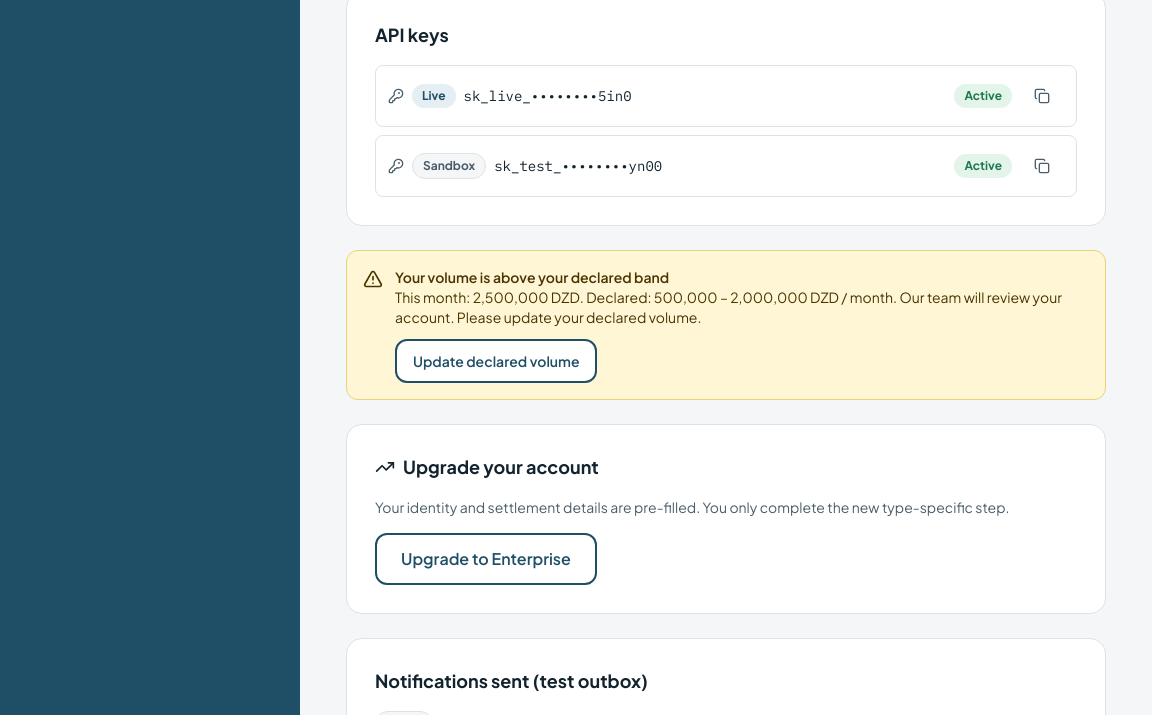
Scenario: volume above declared band › an Enterprise-level band for a Company shows an inline error pointing to the upgrade
(page scrolled)
Click the button "Update declared volume": (496, 360) [395,338,598,382]
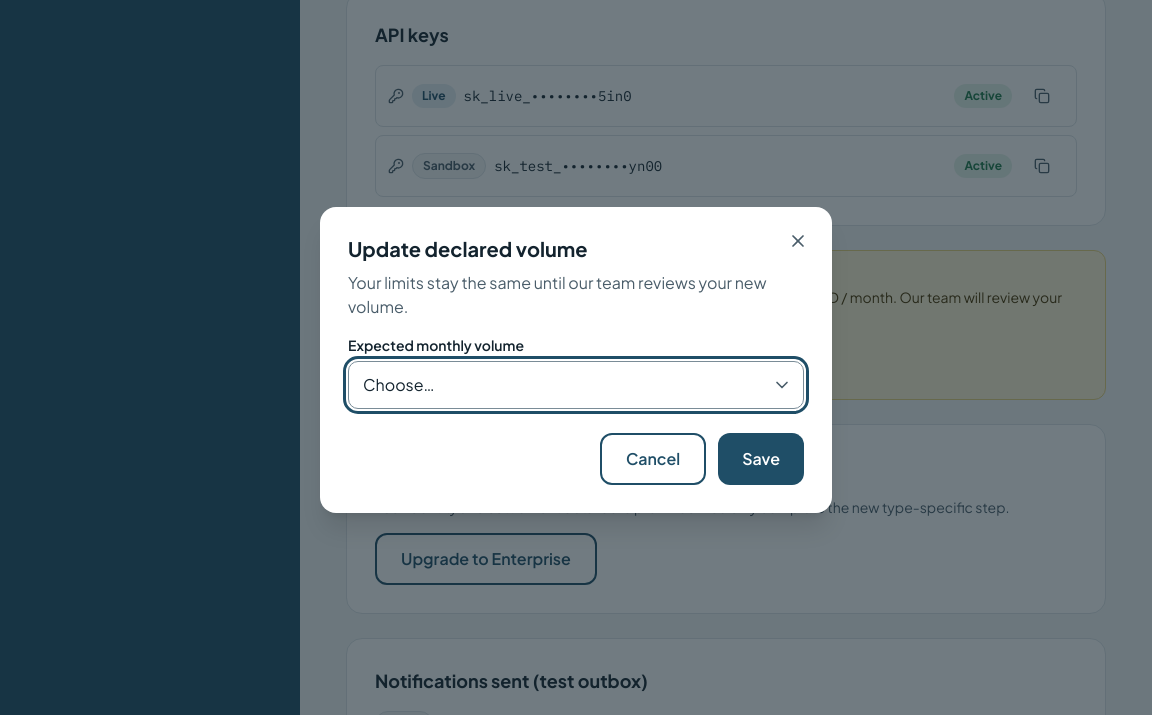
Select "10,000,000 DZD / month and above" in the dropdown labelled "Expected monthly volume": (576, 385) [348,361,804,409]
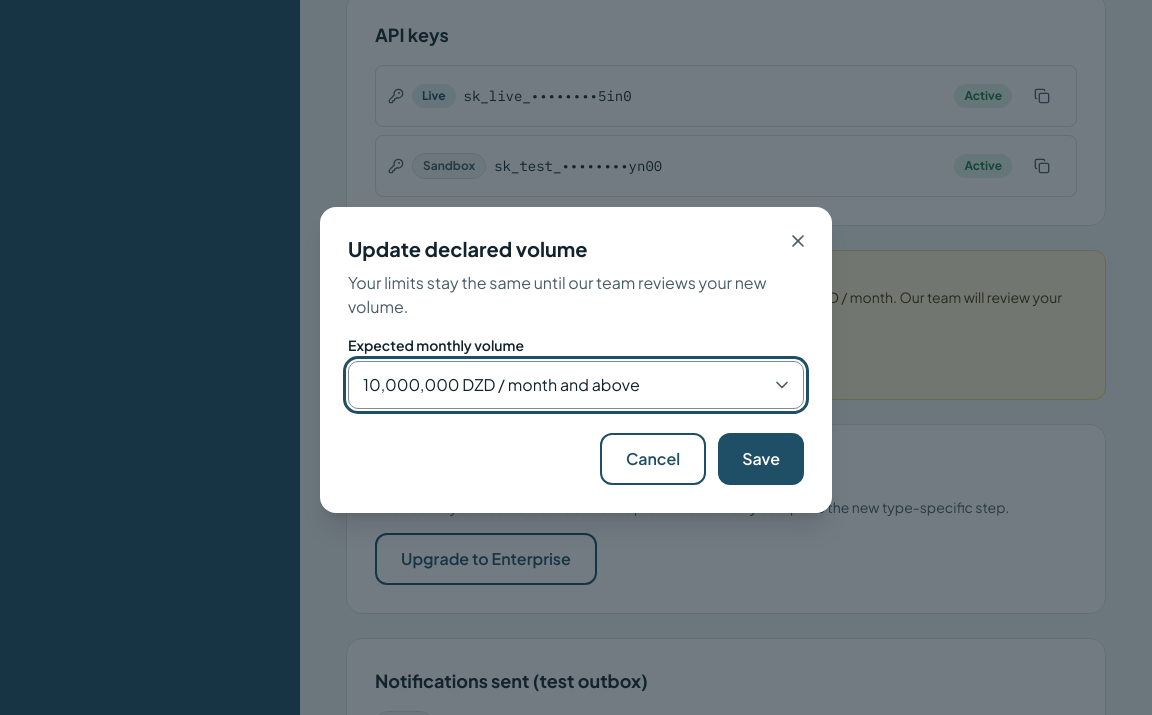
Click the button "Save": (761, 459) [718,433,804,485]
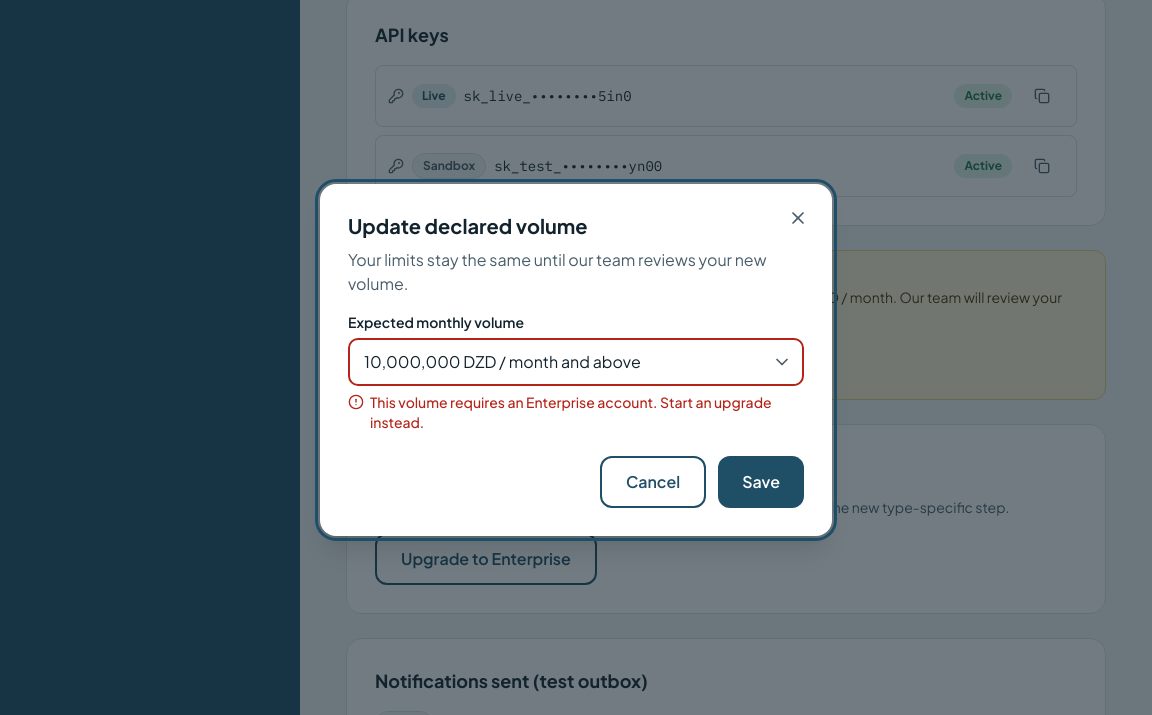
expect the text "requires an Enterprise account" is shown: met, box [370,393,772,431]
